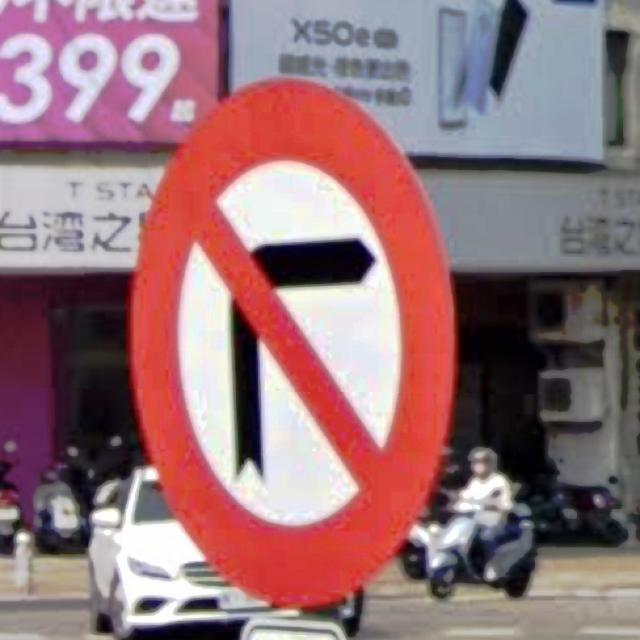noturnright: (131, 78, 460, 610)
